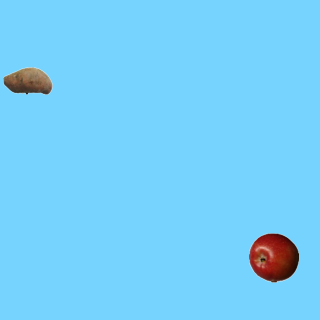Apple Braeburn: (248, 232, 298, 282)
Potato Sweet: (2, 55, 52, 105)
